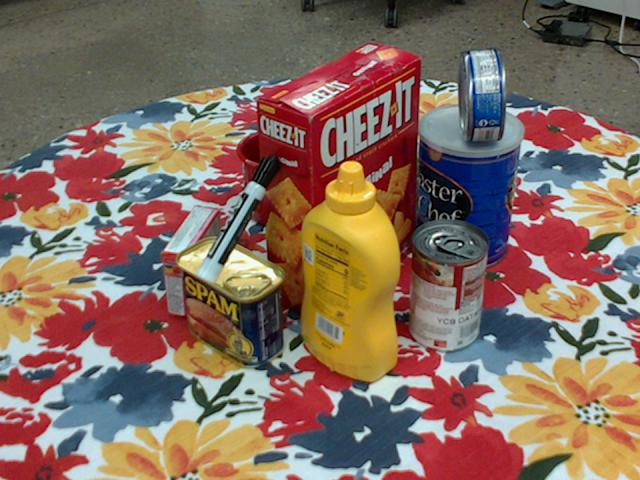cracker_box: (256, 42, 422, 320)
gelatin_box: (162, 204, 222, 317)
large_marker: (196, 152, 281, 282)
master_chef_can: (416, 104, 522, 272)
mug: (237, 128, 340, 228)
mustard_bottle: (301, 161, 401, 382)
potted_meat_can: (176, 236, 285, 368)
sugar_box: (287, 90, 449, 200)
tomato_soup_can: (408, 219, 489, 352)
tuna_fish_can: (457, 48, 507, 141)
